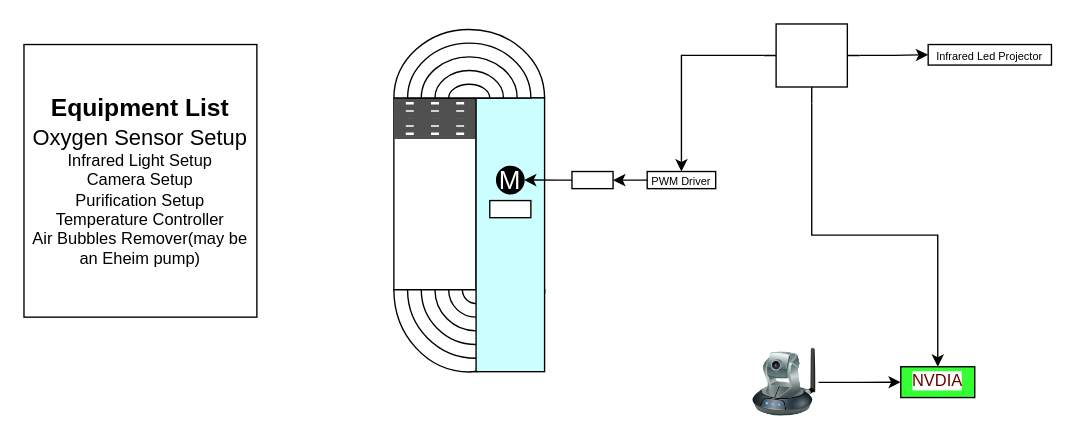
The diagram is 1075 pixels wide and 441 high, and some of its shapes have lost their labels. The shapes that lost their labels are listed below. From the top down, each one's box as (x1, y1, x2, y2) in pixels, then its label:
(762, 23, 860, 103): Regulator
(571, 170, 613, 189): ESC
(488, 199, 531, 218): T200
